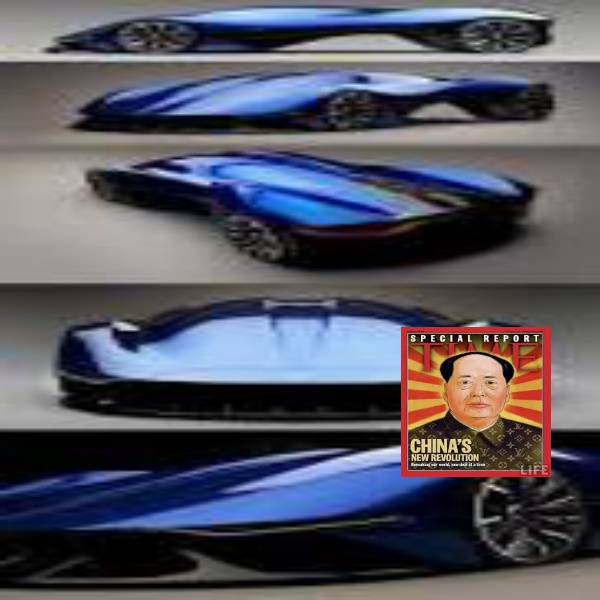time_cover: (399, 326, 552, 475)
